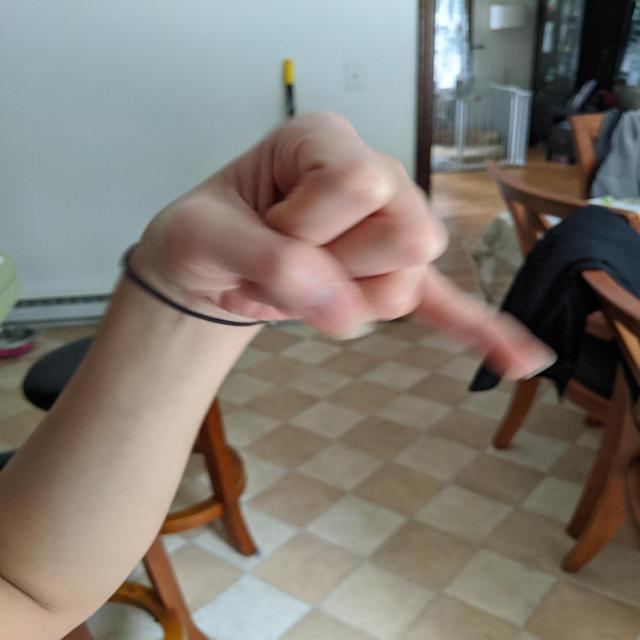J: (118, 100, 566, 390)
